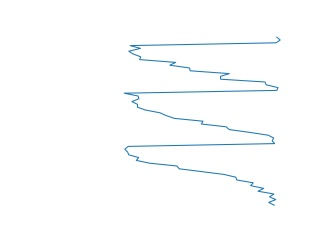distributaryMouthBar: (120, 35, 283, 207)
